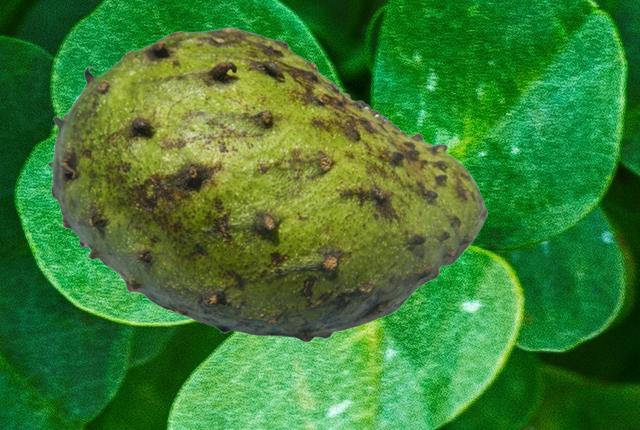guyabano: (47, 26, 487, 342)
